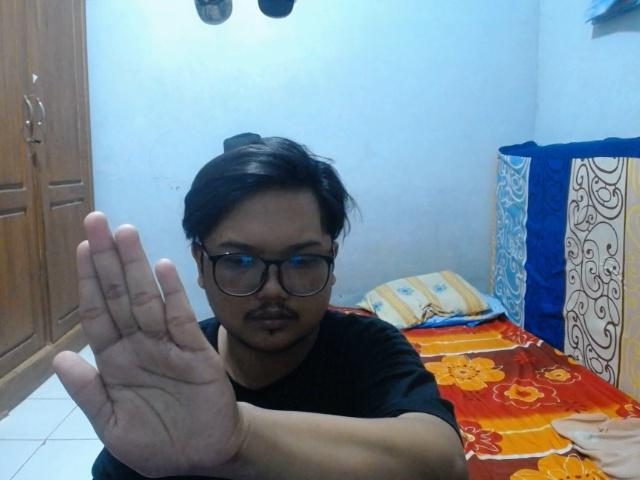Release: (46, 203, 247, 480)
